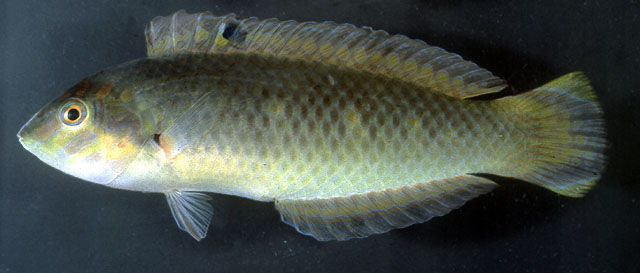fish: (15, 7, 608, 243)
